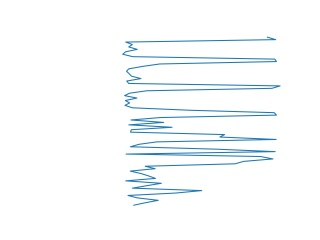crevasseRiverChannelBar: (120, 159, 277, 207)
majorRiverBedLagDeposit: (122, 120, 281, 163)
majorRiverChannelBar: (120, 35, 283, 117)
